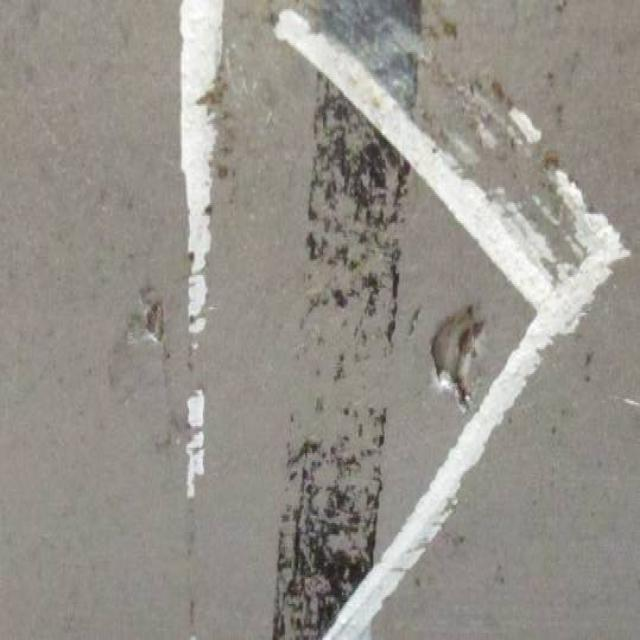Peeling: (431, 309, 483, 413), (144, 301, 168, 342)
